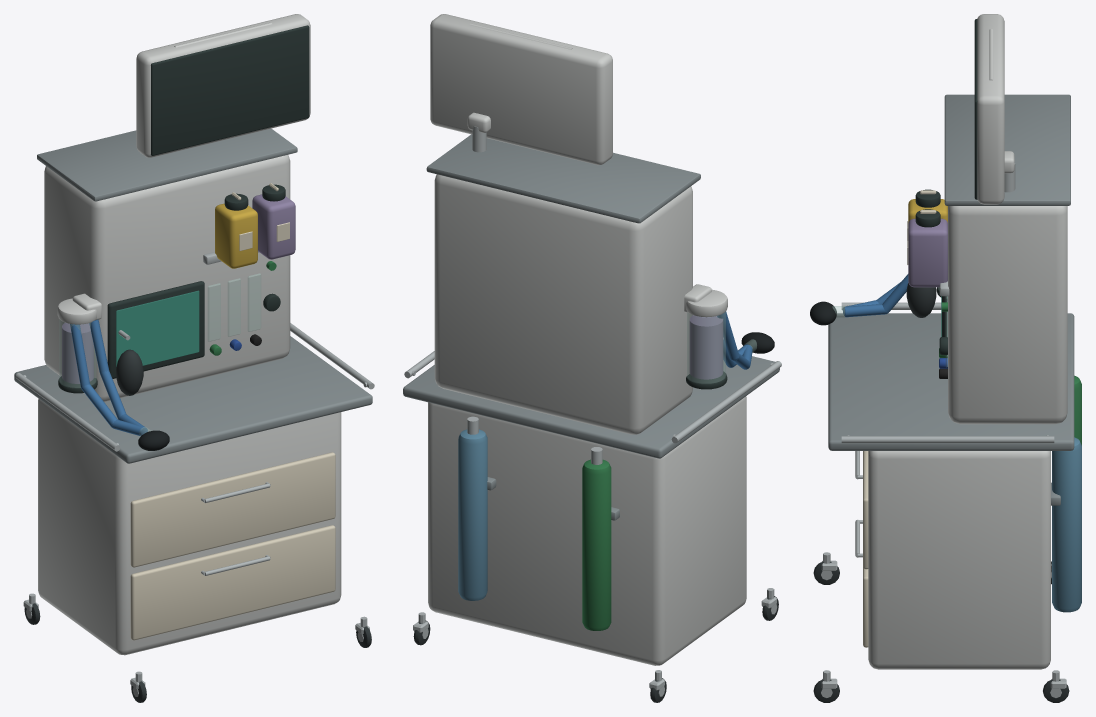
The model's file is sc-anaesthesia-workstation.glb.
The picture shows the model from 3 angles, left to right: view 1: azimuth 30°, elevation 25°; view 2: azimuth 150°, elevation 25°; view 3: azimuth 270°, elevation 25°; orthographic projection. The views are drawn at different scales.
Parts seen in each view (by area): view 1: sc-anaesthesia-workstation; view 2: sc-anaesthesia-workstation; view 3: sc-anaesthesia-workstation.
Part boxes in pixels (x1,y1,x2,y2): sc-anaesthesia-workstation: (14, 14, 374, 702); sc-anaesthesia-workstation: (403, 14, 781, 702); sc-anaesthesia-workstation: (810, 14, 1081, 702).
Bounding box in the file's own units: 0.976 × 2.04 × 0.8186.
